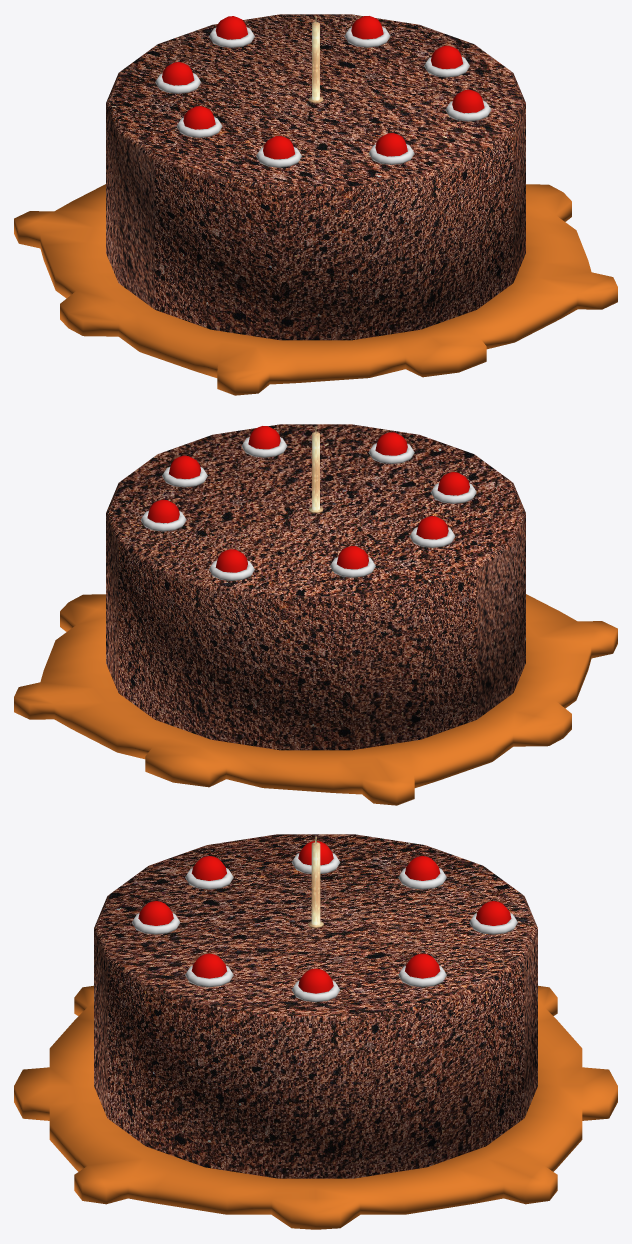
Rendered from cake.glb.
3 views of the same model, one above another, from view 1: azimuth 30°, elevation 25°; view 2: azimuth 150°, elevation 25°; view 3: azimuth 270°, elevation 25° (orthographic). The views are drawn at different scales.
Visible parts, largest first — view 1: Sphere.002; view 2: Sphere.002; view 3: Sphere.002.
Boxes of the visible parts, x1,y1,x2,y2 form: Sphere.002: [14, 14, 617, 395]; Sphere.002: [14, 424, 617, 805]; Sphere.002: [14, 834, 617, 1229].
Bounding box in the file's own units: 3.4 × 1.65 × 3.4.
Materials: 5 (2 with a texture image).
